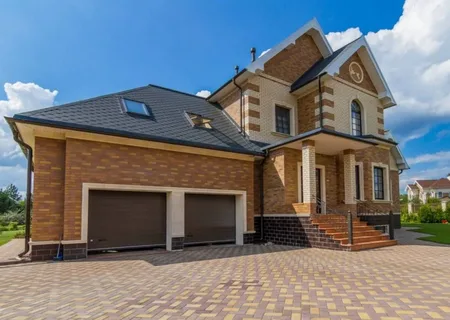private_hause: (227, 39, 397, 238)
